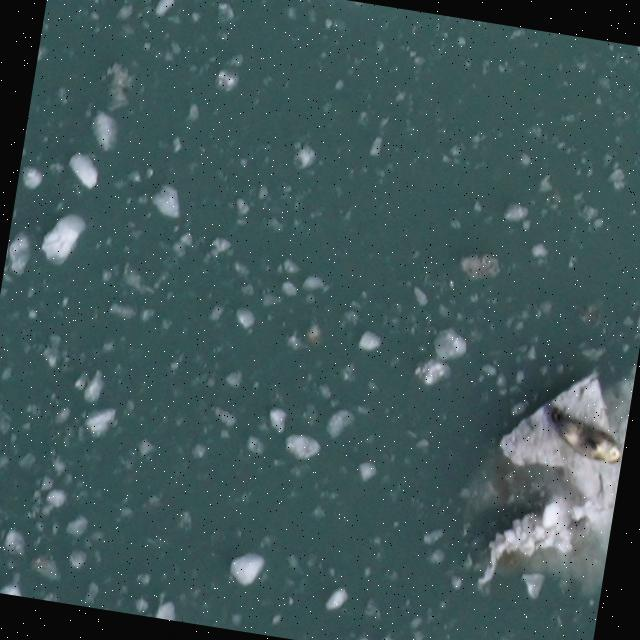seal: (538, 398, 628, 468)
